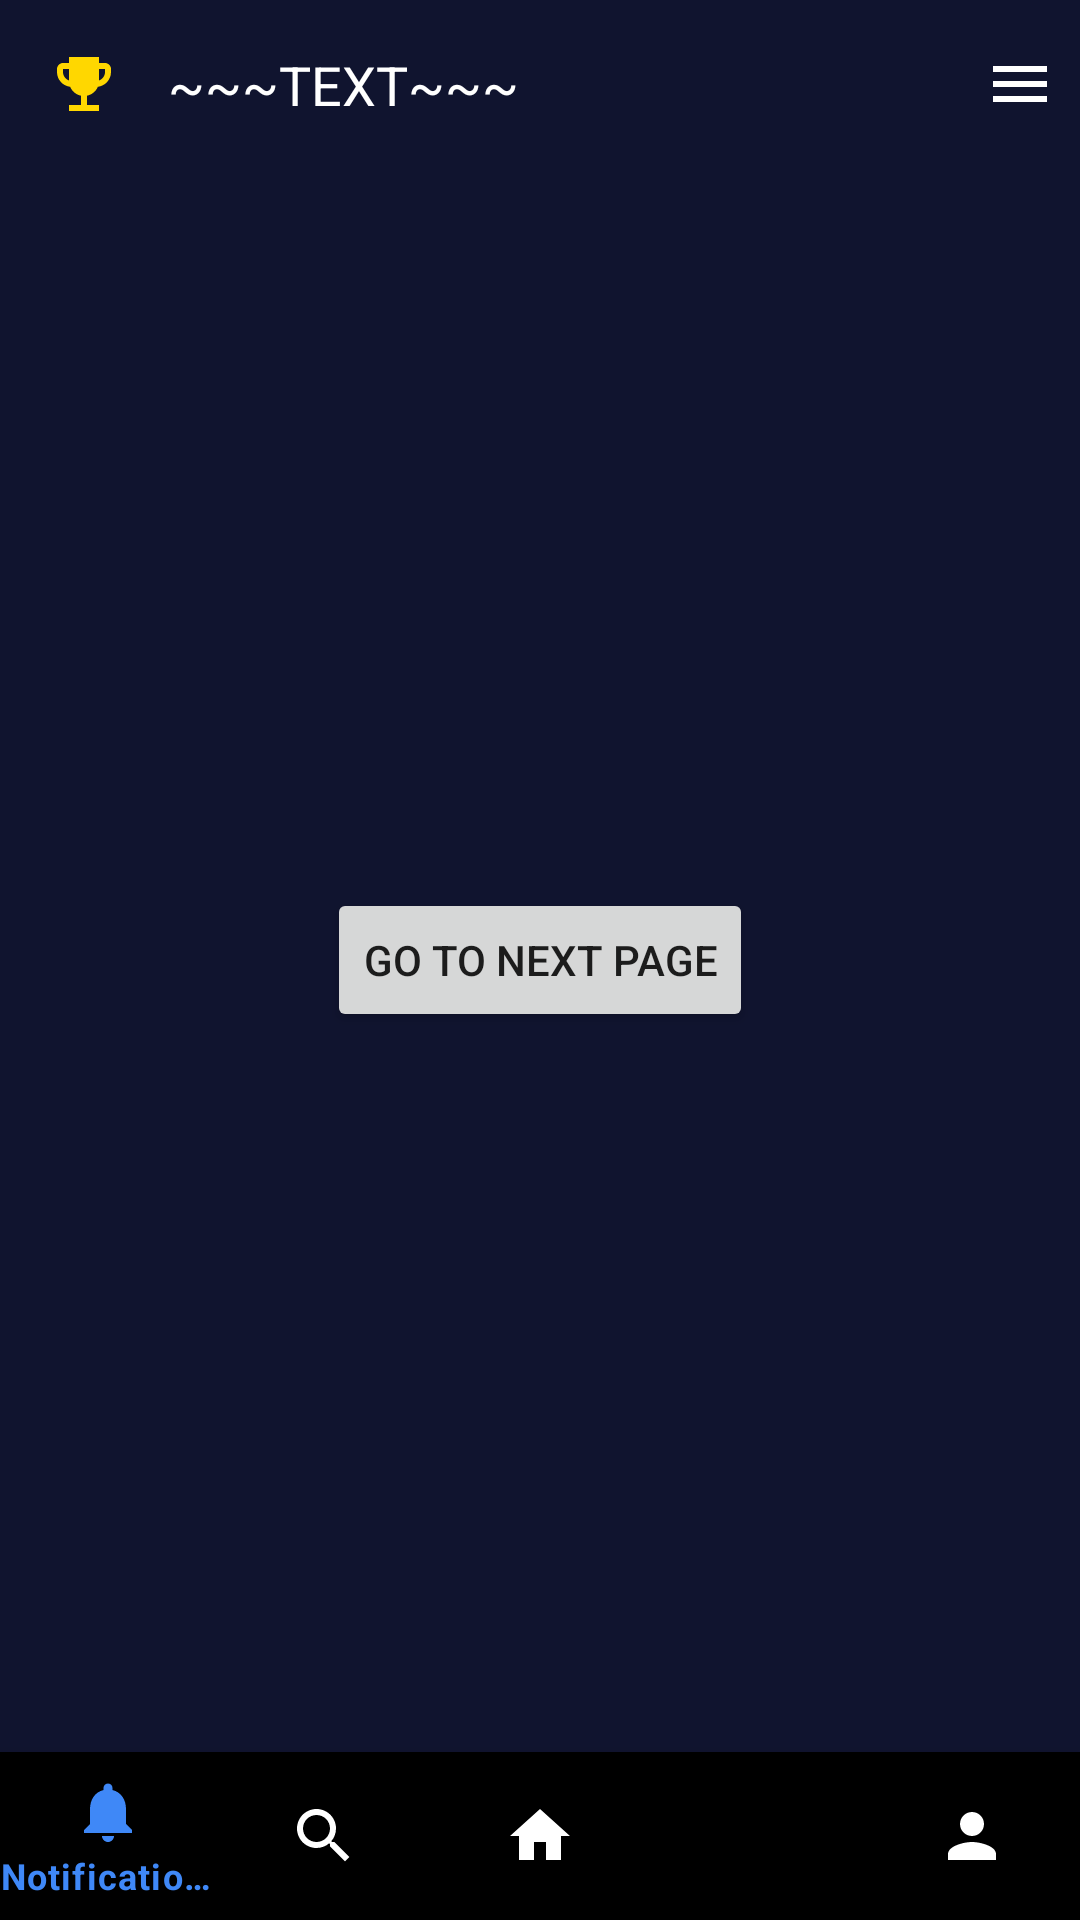

Where to tap for icons on this 1080px×1920px app screen, as (x=x, y=y):
menu: (x=1020, y=84)
trophy: (x=84, y=84)
